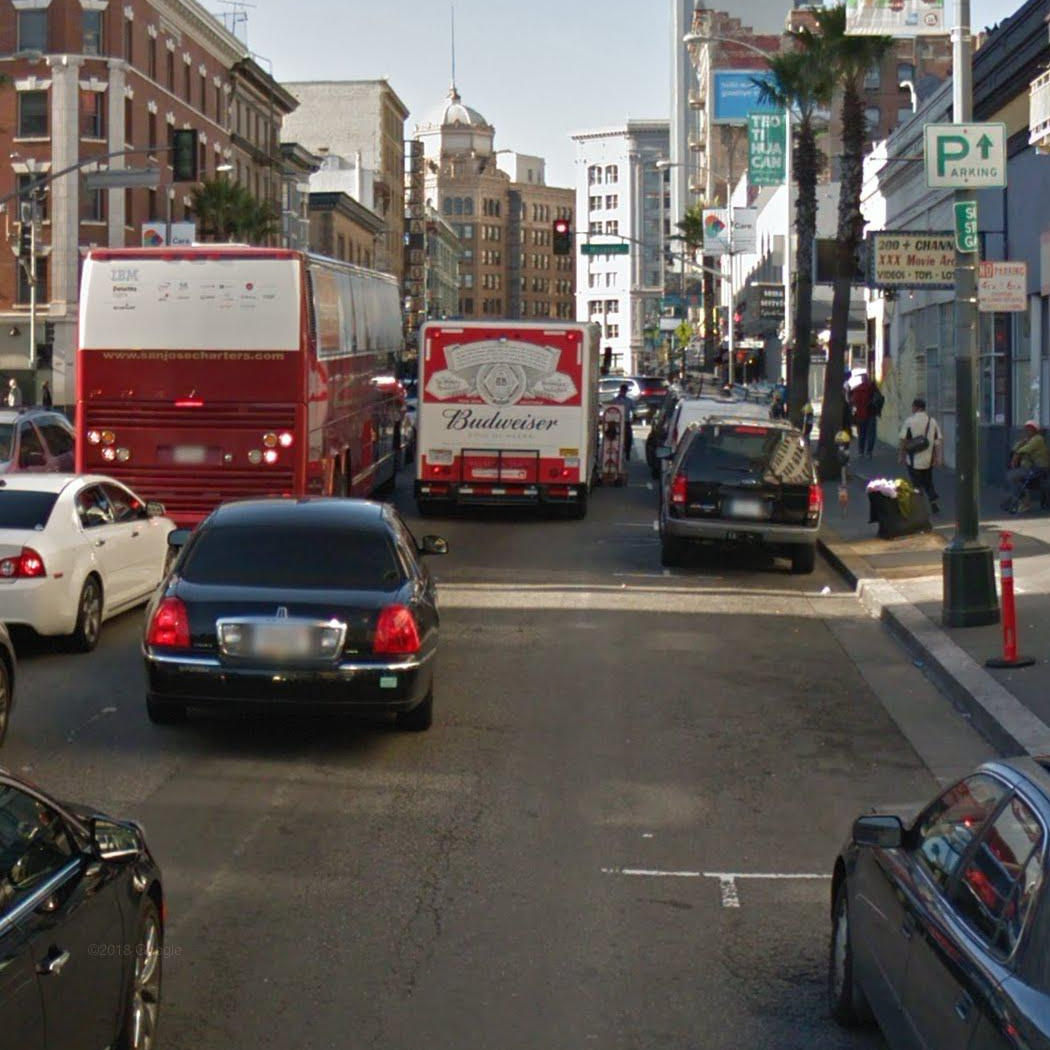No Parking: (974, 259, 1029, 314)
